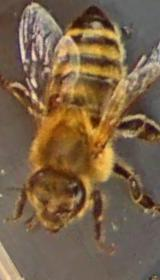varroa_mite: (44, 86, 68, 112)
